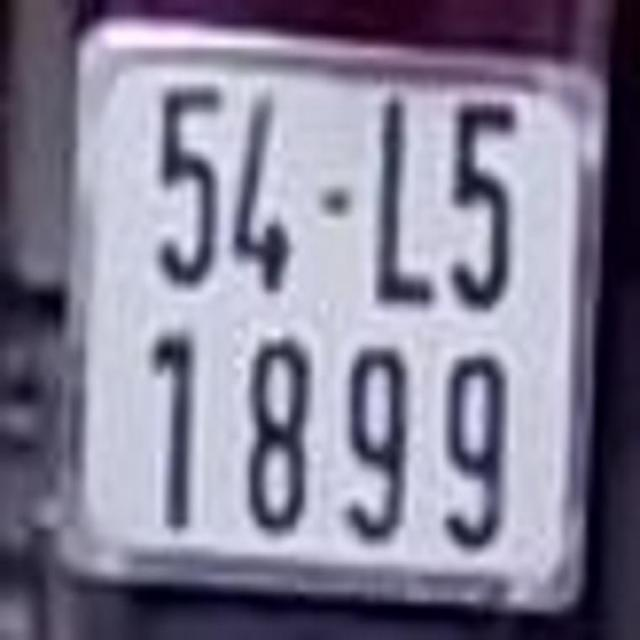1: (150, 330, 206, 530)
4: (235, 101, 298, 292)
5: (450, 107, 520, 304), (156, 86, 218, 284)
8: (244, 331, 309, 536)
9: (343, 340, 413, 548), (438, 340, 504, 554)
L: (369, 108, 434, 306)
